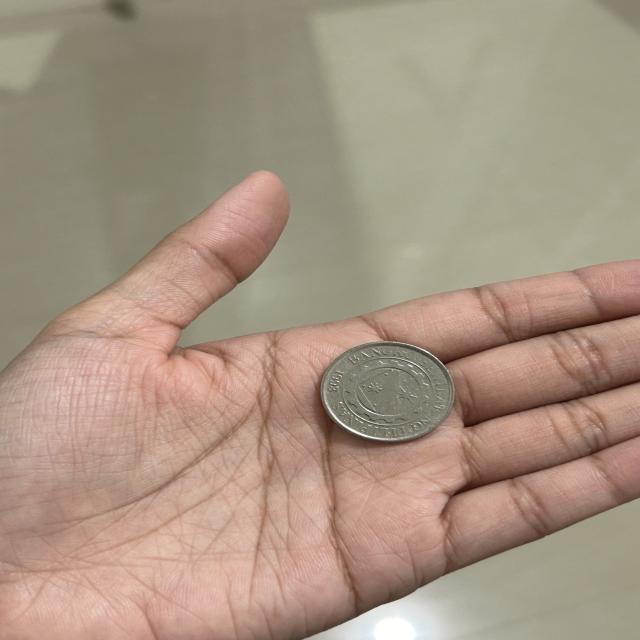1_Old_Back: (318, 344, 457, 443)
